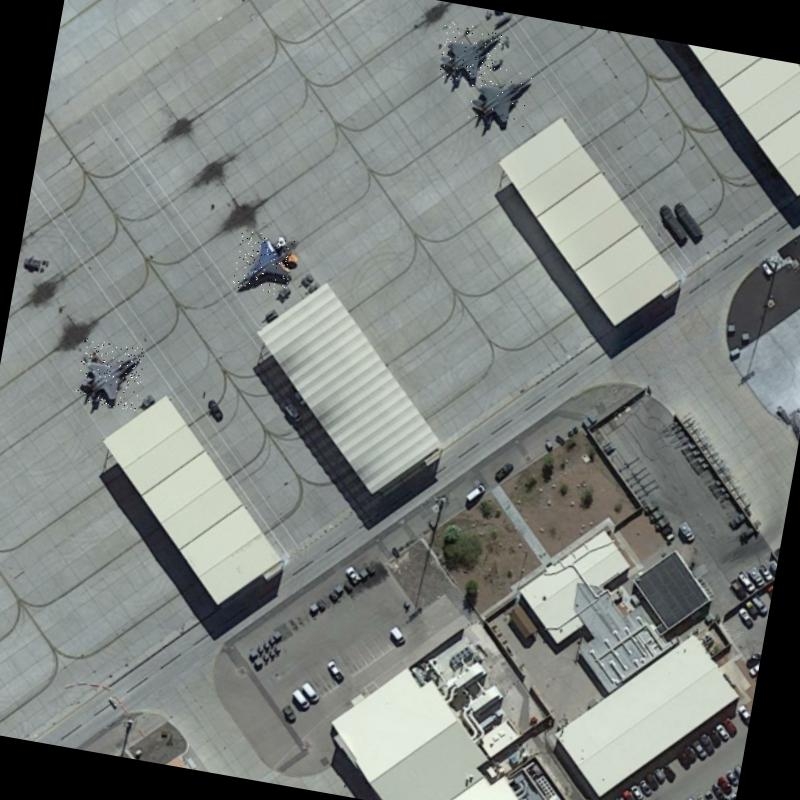A13: (74, 338, 147, 412), (466, 64, 536, 136), (435, 21, 503, 90), (232, 230, 295, 297)
